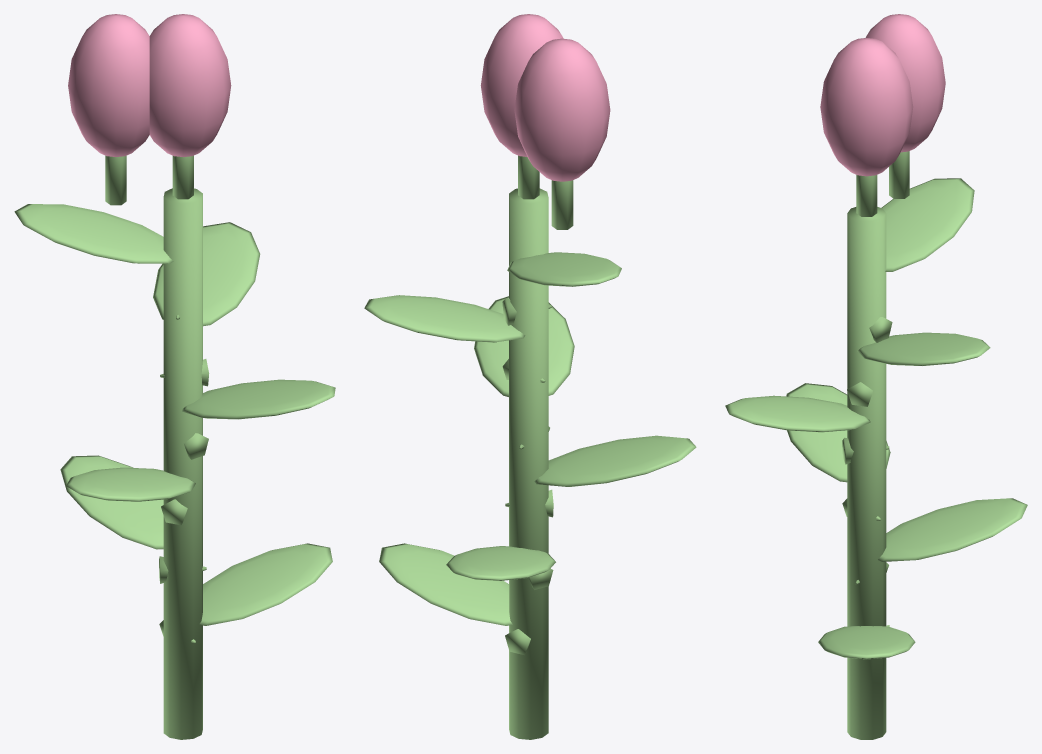
The model's file is VCrop_Rose_4.fbx.
3 views of the same model, side by side, from view 1: azimuth 30°, elevation 25°; view 2: azimuth 150°, elevation 25°; view 3: azimuth 270°, elevation 25° (orthographic). The views are drawn at different scales.
Parts seen in each view (by area): view 1: VCrop_Rose_4; view 2: VCrop_Rose_4; view 3: VCrop_Rose_4.
Part boxes in pixels (x1,y1,x2,y2): VCrop_Rose_4: (14, 14, 335, 739); VCrop_Rose_4: (364, 14, 696, 739); VCrop_Rose_4: (725, 14, 1027, 739).
Bounding box in the file's own units: 0.2431 × 0.5867 × 0.2327.
